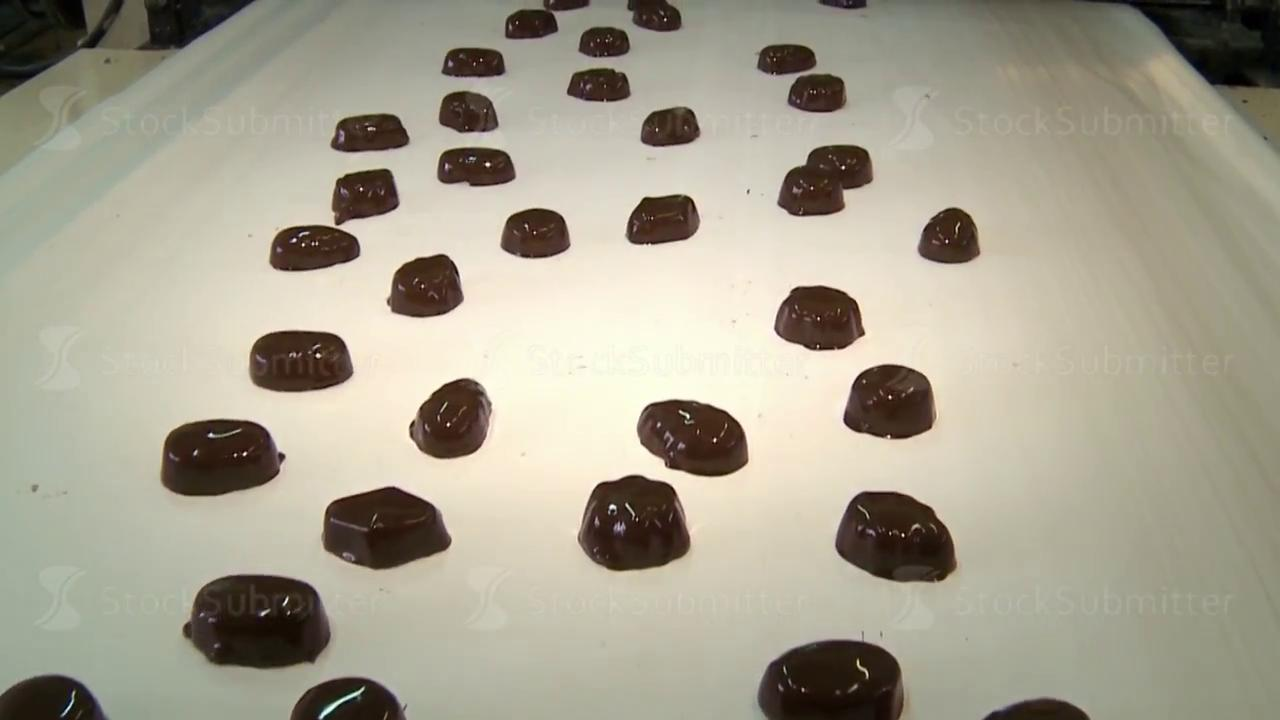chocolate: (182, 573, 330, 668), (757, 638, 904, 718), (835, 490, 957, 582), (577, 474, 690, 570), (322, 485, 451, 569), (160, 418, 284, 496), (636, 398, 748, 476), (843, 363, 936, 439), (409, 377, 492, 458), (249, 329, 353, 391), (774, 284, 865, 350), (290, 676, 407, 719), (1, 673, 108, 719), (387, 254, 463, 317), (269, 224, 359, 271), (626, 193, 699, 245), (332, 168, 399, 224), (501, 207, 570, 258), (918, 207, 980, 263), (778, 165, 844, 216), (437, 147, 515, 186), (331, 113, 408, 151), (807, 144, 873, 188), (982, 696, 1090, 719), (439, 90, 498, 132), (641, 106, 700, 146), (788, 73, 846, 112), (567, 67, 630, 101), (442, 47, 505, 77), (757, 43, 815, 74), (628, 0, 682, 31), (505, 9, 558, 39), (578, 26, 629, 57)
